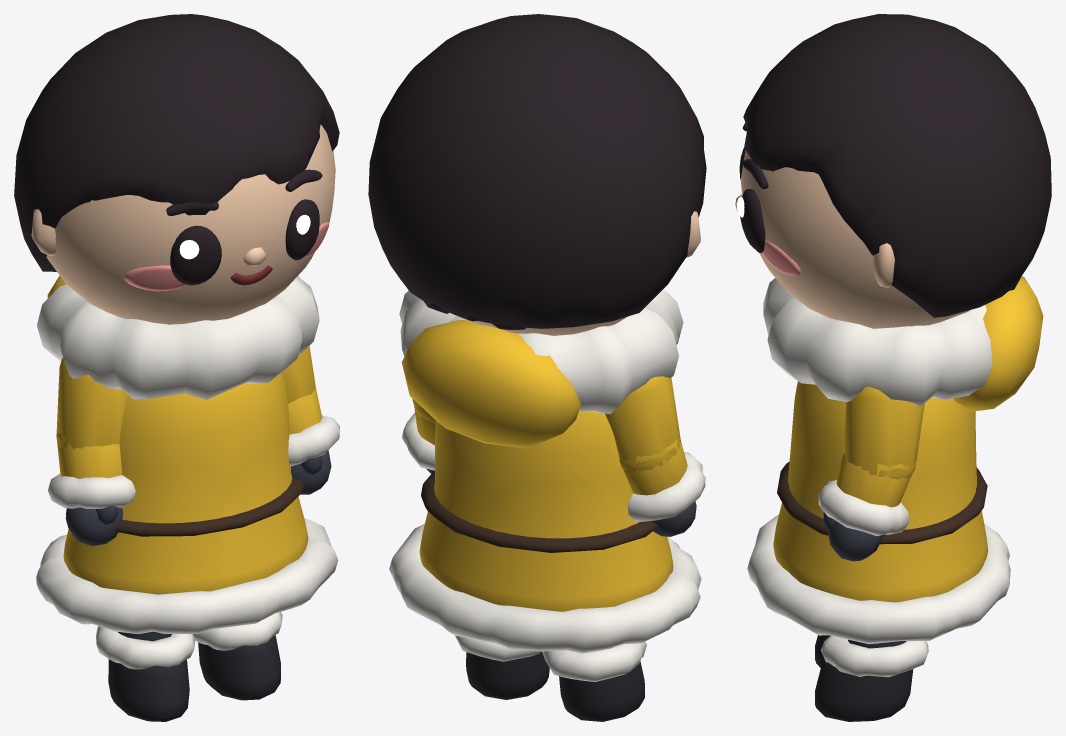
The model's file is npc_yellow.glb.
3 views of the same model, side by side, from view 1: azimuth 30°, elevation 25°; view 2: azimuth 150°, elevation 25°; view 3: azimuth 270°, elevation 25° (orthographic). The views are drawn at different scales.
Parts seen in each view (by area): view 1: head_body, spine_body, chest_body, knee_R_body, knee_L_body, el_R_body, uarm_R, head_eye_dot, el_L_body, hand_R_body, head_cheek_blush, uarm_L (+2 smaller); view 2: head_body, spine_body, chest_body, knee_R_body, uarm_R, el_R_body, knee_L_body, el_L_body, hand_R_body; view 3: head_body, spine_body, chest_body, knee_L_body, uarm_L, el_L_body, hand_L_body, head_eye_dot, head_cheek_blush.
Boxes of the visible parts, x1=… form: head_body: x1=14, y1=14, x2=339, y2=324; spine_body: x1=36, y1=373, x2=338, y2=634; chest_body: x1=37, y1=275, x2=319, y2=399; knee_R_body: x1=96, y1=626, x2=195, y2=721; knee_L_body: x1=193, y1=612, x2=282, y2=700; el_R_body: x1=48, y1=432, x2=135, y2=508; uarm_R: x1=56, y1=358, x2=127, y2=449; head_eye_dot: x1=170, y1=199, x2=319, y2=285; el_L_body: x1=288, y1=387, x2=339, y2=466; hand_R_body: x1=65, y1=505, x2=122, y2=545; head_cheek_blush: x1=124, y1=222, x2=329, y2=291; uarm_L: x1=282, y1=345, x2=315, y2=403; head_body: x1=368, y1=14, x2=706, y2=335; spine_body: x1=389, y1=410, x2=701, y2=653; chest_body: x1=399, y1=289, x2=683, y2=448; knee_R_body: x1=542, y1=641, x2=646, y2=721; uarm_R: x1=605, y1=376, x2=681, y2=471; el_R_body: x1=619, y1=439, x2=705, y2=522; knee_L_body: x1=455, y1=635, x2=549, y2=699; el_L_body: x1=402, y1=400, x2=435, y2=470; hand_R_body: x1=651, y1=501, x2=696, y2=536; head_body: x1=735, y1=14, x2=1051, y2=328; spine_body: x1=747, y1=381, x2=1010, y2=644; chest_body: x1=763, y1=276, x2=1043, y2=411; knee_L_body: x1=815, y1=635, x2=928, y2=721; uarm_L: x1=843, y1=386, x2=924, y2=479; el_L_body: x1=818, y1=453, x2=915, y2=535; hand_L_body: x1=823, y1=512, x2=883, y2=561; head_eye_dot: x1=736, y1=148, x2=765, y2=252; head_cheek_blush: x1=762, y1=240, x2=801, y2=276.
Size of what is drawn, in the model's own units: 0.6642 by 1.38 by 0.5999.
